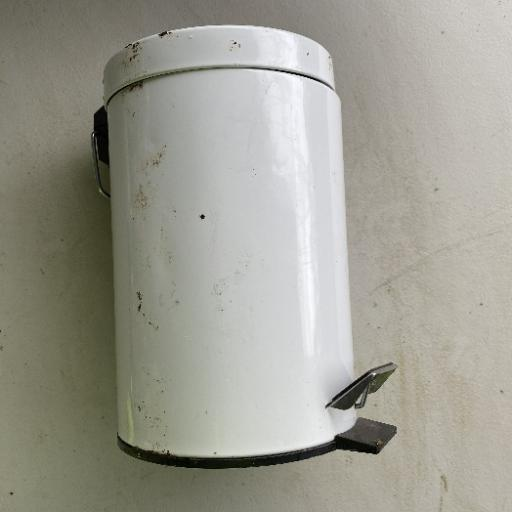Metal: (87, 23, 400, 467)
